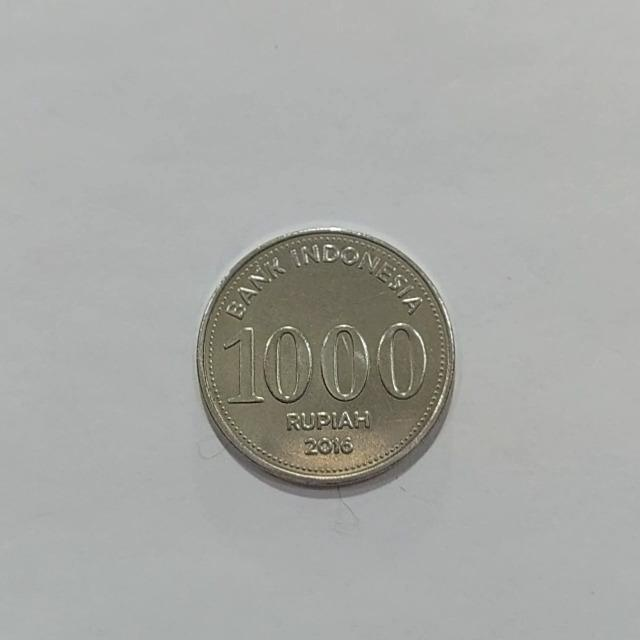Rp100: (194, 225, 456, 490)
